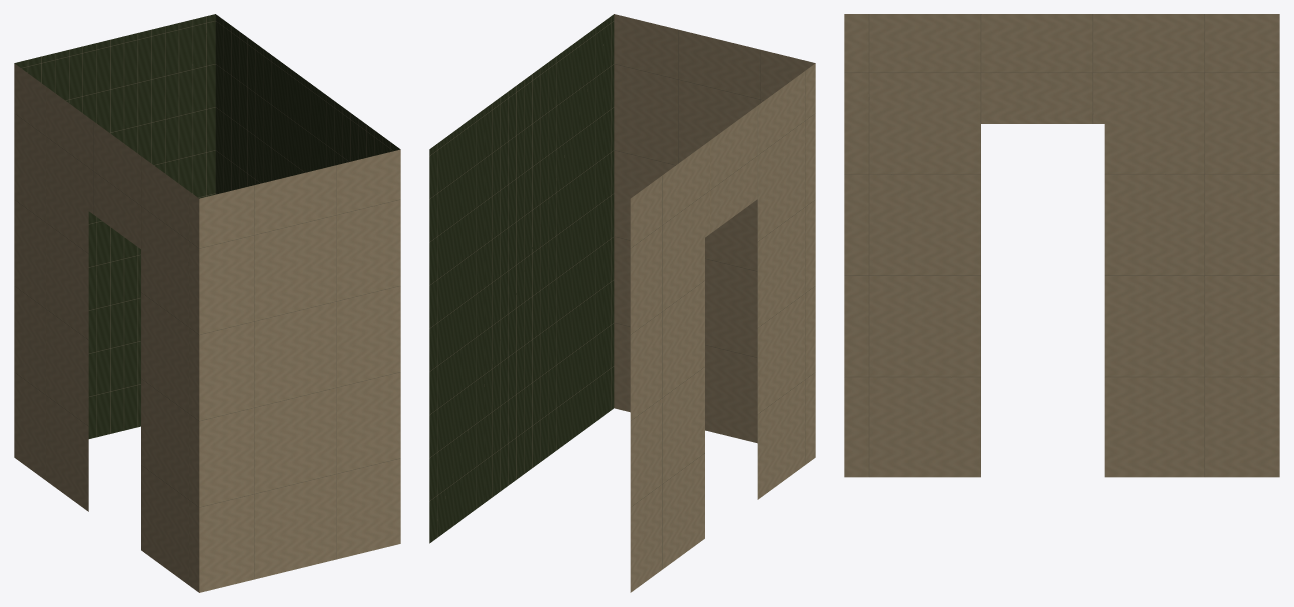
Rendered from r_toilet1-lining.glb.
3 renders of one model, left to right at view 1: azimuth 30°, elevation 25°; view 2: azimuth 150°, elevation 25°; view 3: azimuth 270°, elevation 25°, orthographic. The views are drawn at different scales.
Visible parts, largest first — view 1: bath-warm-stone wall, bath-olive-kitkat wall; view 2: bath-warm-stone wall, bath-olive-kitkat wall; view 3: bath-warm-stone wall.
Boxes of the visible parts, left/top/right/bottom form: bath-warm-stone wall: left=14, top=63, right=400, bottom=592; bath-olive-kitkat wall: left=14, top=14, right=400, bottom=438; bath-warm-stone wall: left=614, top=14, right=815, bottom=592; bath-olive-kitkat wall: left=429, top=14, right=614, bottom=543; bath-warm-stone wall: left=844, top=14, right=1279, bottom=477.
Size of the model in its own units: 1.47 by 2.74 by 2.33.
2 materials, 2 textured.
